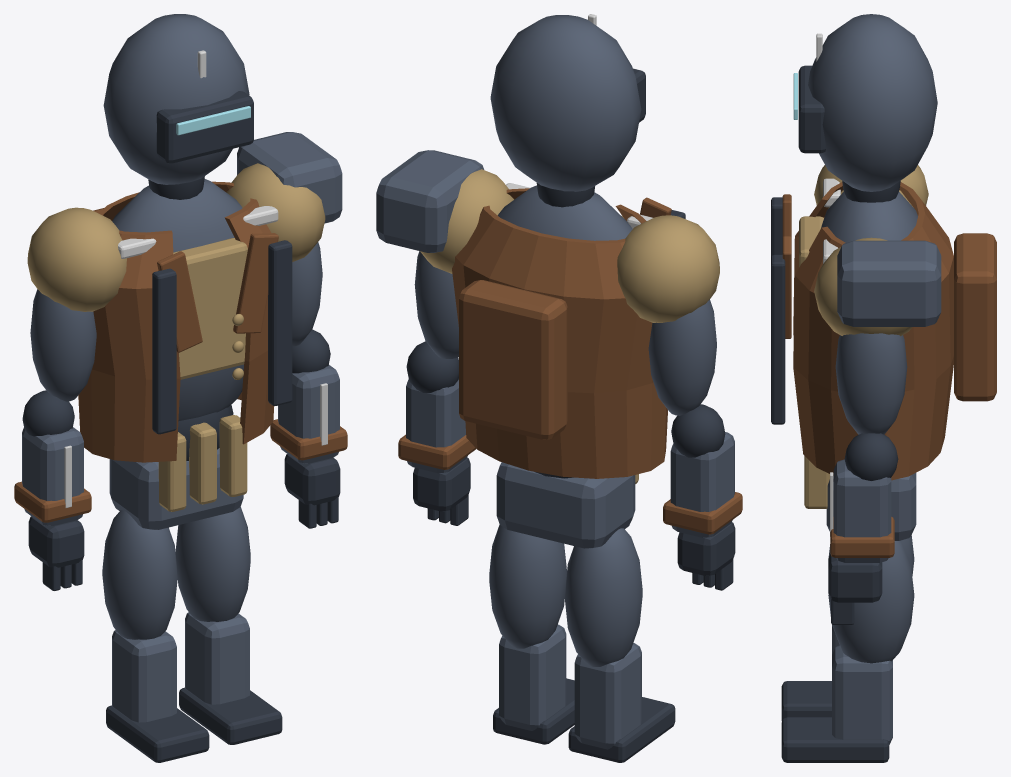
The model's file is polybot.glb.
The picture shows the model from 3 angles, left to right: view 1: azimuth 30°, elevation 25°; view 2: azimuth 150°, elevation 25°; view 3: azimuth 270°, elevation 25°; orthographic projection. The views are drawn at different scales.
Visible parts, largest first — view 1: Fabricator utility harness, Helmet, Shoulder R, Thigh R, Articulated thorax, Thigh L, Sternum shield, Upper arm R, Shin R, Shin L, Tool shoulder case, Pelvis (+24 smaller); view 2: Fabricator utility harness, Helmet, Fabricator dorsal battery, Pelvis, Shoulder R, Thigh R, Thigh L, Tool shoulder case, Upper arm R, Shin R, Shin L, Articulated thorax (+13 smaller); view 3: Fabricator utility harness, Helmet, Tool shoulder case, Fabricator dorsal battery, Upper arm L, Thigh L, Shin L, Bracer L, Foot L, Articulated thorax, Fabricator harness.001, Hand L (+14 smaller).
Boxes of the visible parts, x1,y1,x2,y2 form: Fabricator utility harness: [78, 181, 274, 462]; Helmet: [103, 14, 249, 184]; Shoulder R: [27, 207, 126, 311]; Thigh R: [102, 510, 177, 639]; Articulated thorax: [112, 179, 243, 421]; Thigh L: [175, 507, 250, 621]; Sternum shield: [173, 238, 247, 379]; Upper arm R: [30, 289, 96, 401]; Shin R: [112, 630, 176, 722]; Shin L: [185, 612, 249, 704]; Tool shoulder case: [237, 132, 342, 223]; Pelvis: [109, 448, 243, 529]; Fabricator utility harness: [452, 188, 667, 478]; Helmet: [490, 15, 641, 191]; Fabricator dorsal battery: [459, 280, 567, 439]; Pelvis: [496, 462, 635, 548]; Shoulder R: [617, 215, 719, 322]; Thigh R: [565, 528, 642, 666]; Thigh L: [489, 524, 566, 648]; Tool shoulder case: [376, 150, 484, 252]; Upper arm R: [648, 299, 716, 415]; Shin R: [574, 643, 641, 749]; Shin L: [499, 624, 566, 730]; Articulated thorax: [498, 185, 632, 240]; Fabricator utility harness: [793, 182, 953, 480]; Helmet: [808, 14, 937, 191]; Tool shoulder case: [837, 240, 941, 326]; Fabricator dorsal battery: [954, 233, 996, 401]; Upper arm L: [835, 333, 907, 434]; Thigh L: [828, 540, 914, 663]; Shin L: [832, 645, 892, 744]; Bracer L: [833, 459, 891, 562]; Foot L: [781, 717, 889, 762]; Articulated thorax: [821, 192, 917, 242]; Fabricator harness.001: [771, 254, 785, 424]; Hand L: [828, 554, 882, 602].
Bounding box in the file's own units: 1.01 × 2.2 × 0.63.
